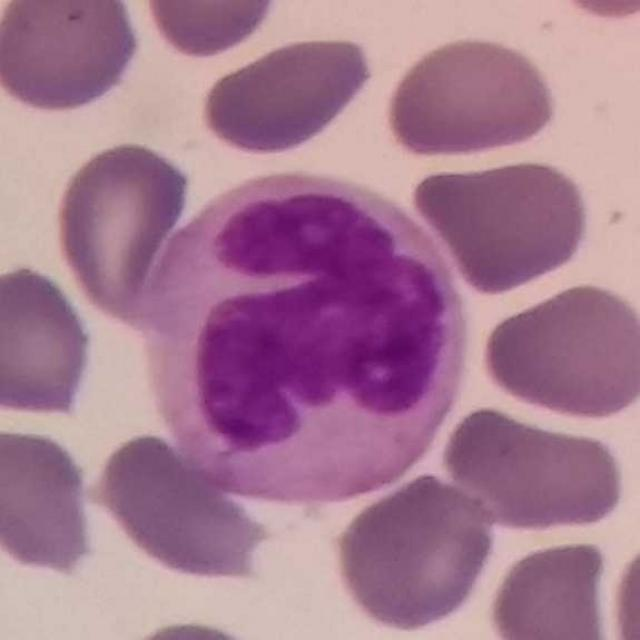Monocyte: (131, 170, 474, 512)
RBC: (89, 427, 279, 588), (327, 468, 502, 636), (49, 134, 196, 322), (436, 401, 631, 536), (412, 154, 596, 296), (381, 30, 562, 163), (477, 278, 640, 424), (196, 31, 379, 159), (0, 0, 147, 118), (0, 419, 100, 581), (0, 261, 99, 422), (482, 534, 620, 640), (133, 0, 286, 62), (0, 1, 136, 48), (103, 613, 290, 640), (605, 527, 640, 639), (541, 0, 640, 24)
